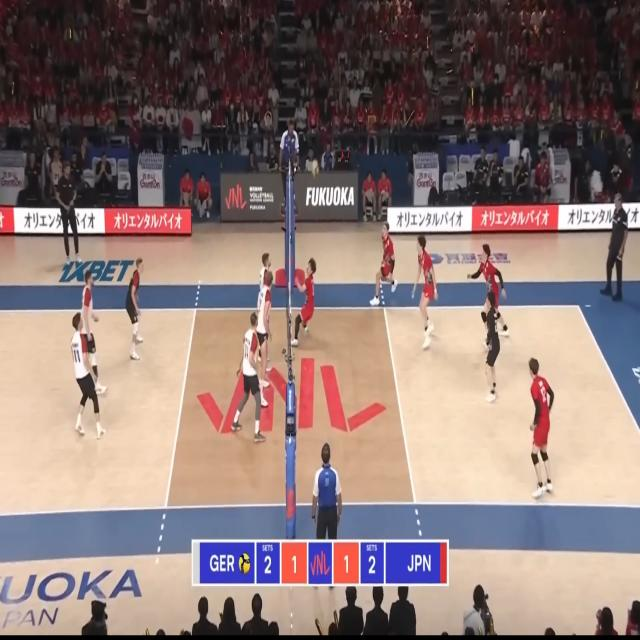ball: (312, 160, 319, 177)
